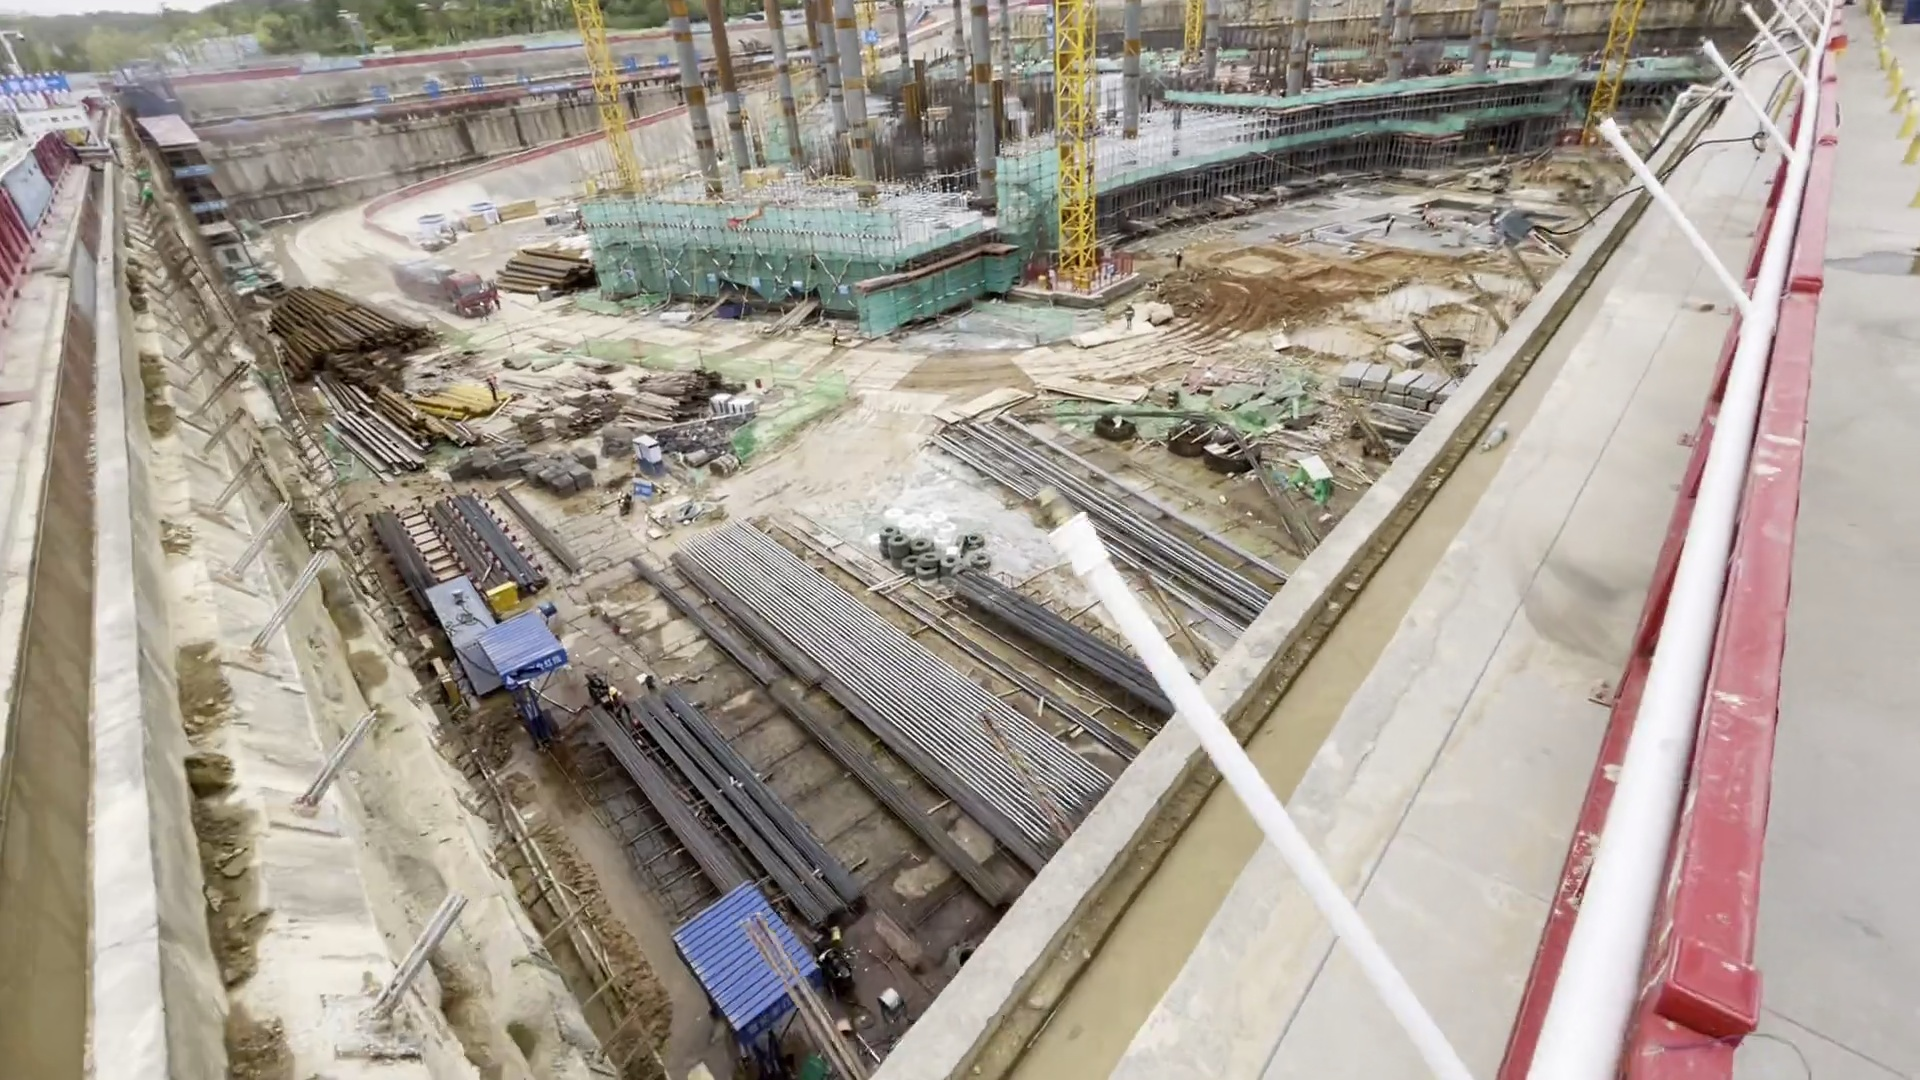brick: (1349, 355, 1465, 429), (709, 396, 757, 424)
ebox: (487, 578, 532, 620), (1071, 275, 1092, 299)
fence: (1544, 57, 1862, 1080)
helmet: (607, 685, 621, 698), (831, 324, 837, 327)
hopper: (715, 301, 753, 319)
person: (604, 683, 630, 726), (488, 279, 504, 313), (1123, 299, 1138, 331), (830, 321, 839, 351), (1173, 249, 1185, 272), (1386, 215, 1397, 238)
rebar: (805, 681, 1019, 897), (657, 716, 825, 915), (955, 588, 1173, 713), (642, 559, 813, 701), (433, 491, 525, 603)
slogan: (363, 52, 542, 109), (514, 653, 565, 679), (7, 77, 65, 91)
vest: (833, 329, 837, 340)
wood: (633, 368, 709, 414)
